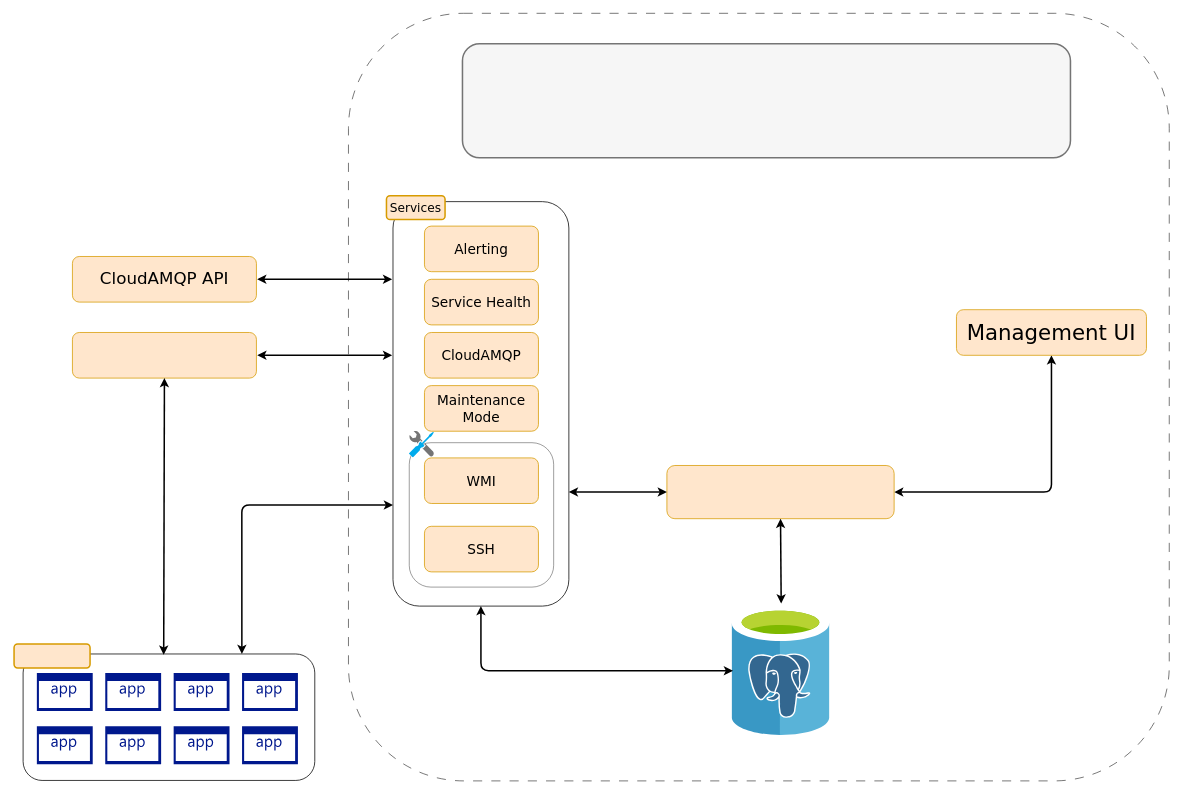
Some shapes in this 1183 by 794 pixel diagram are drawn without their labels. Each missing label, with the box of its shape:
.NET Core Web App: (666, 465, 894, 519)
App Cluster: (13, 643, 90, 668)
CloudAMQP Queues: (72, 332, 256, 378)
Stratosphere: (461, 43, 1071, 158)
